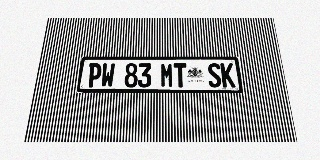3: (138, 63, 151, 87)
8: (124, 63, 138, 87)
K: (220, 63, 236, 87)
M: (160, 63, 174, 87)
P: (87, 63, 102, 87)
S: (207, 63, 222, 87)
T: (174, 63, 187, 87)
W: (100, 63, 115, 87)
